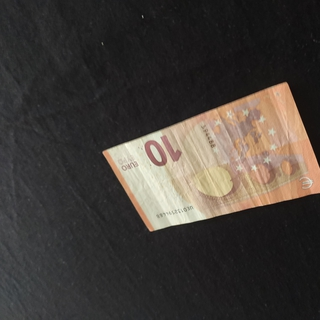10EUROBack: (101, 81, 320, 232)
